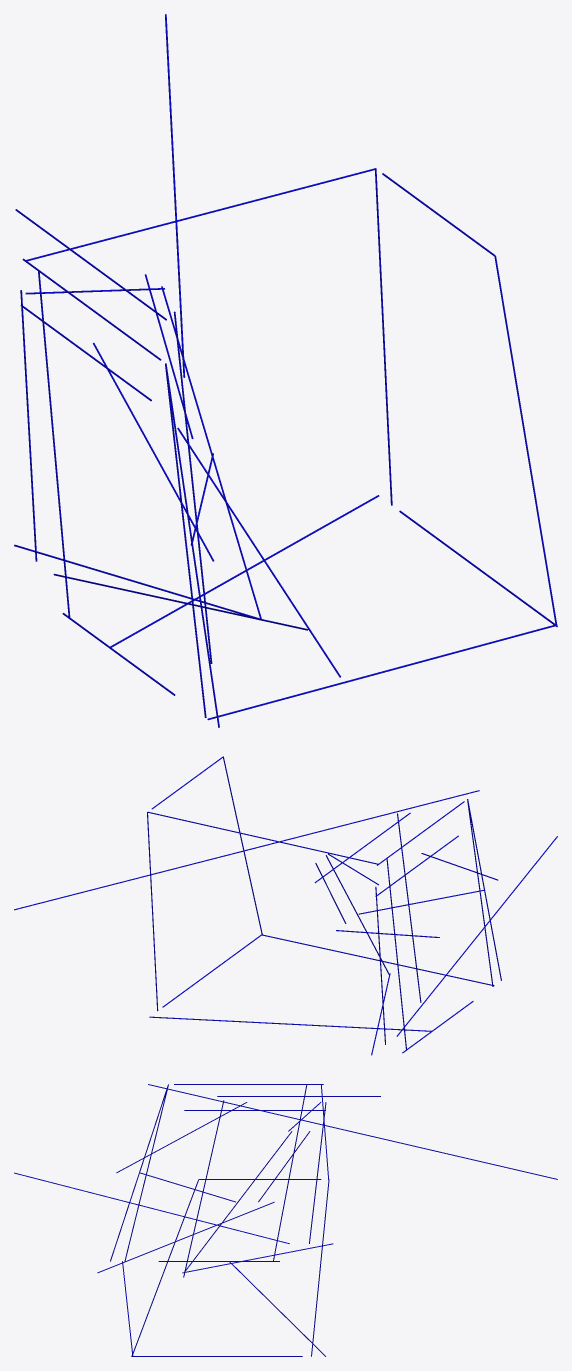
Rendered from corrected_3d_strokes.glb.
3 views of the same model, one above another, from view 1: azimuth 30°, elevation 25°; view 2: azimuth 150°, elevation 25°; view 3: azimuth 270°, elevation 25° (orthographic). The views are drawn at different scales.
Parts seen in each view (by area): view 1: world; view 2: world; view 3: world.
Part boxes in pixels (x1,y1,x2,y2): world: (14,14,557,727); world: (14,756,557,1055); world: (14,1084,557,1356).
Bounding box in the file's own units: 9.03 × 7.85 × 21.75.
